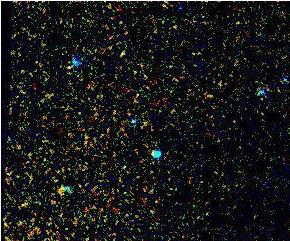star: (63, 100, 93, 130)
